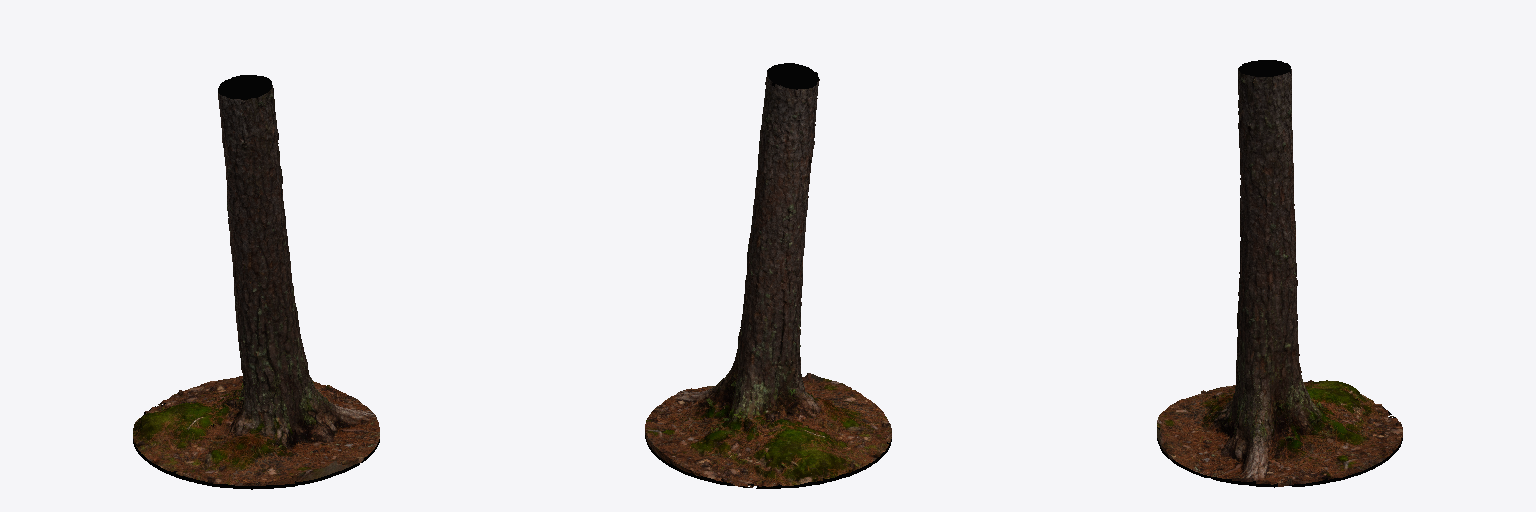
3 renders of one model, left to right at view 1: azimuth 30°, elevation 25°; view 2: azimuth 150°, elevation 25°; view 3: azimuth 270°, elevation 25°, orthographic.
Parts seen in each view (by area): view 1: Object_3, Object_2; view 2: Object_3, Object_2; view 3: Object_3, Object_2.
Part boxes in pixels (bbox=[...]): Object_3: bbox=[133, 85, 379, 485]; Object_2: bbox=[133, 75, 379, 489]; Object_3: bbox=[645, 72, 891, 487]; Object_2: bbox=[645, 63, 891, 488]; Object_3: bbox=[1157, 68, 1402, 486]; Object_2: bbox=[1157, 60, 1402, 487].
Size of the model in its own units: 2.15 by 3.47 by 2.14.
Materials: 2 (1 with a texture image).